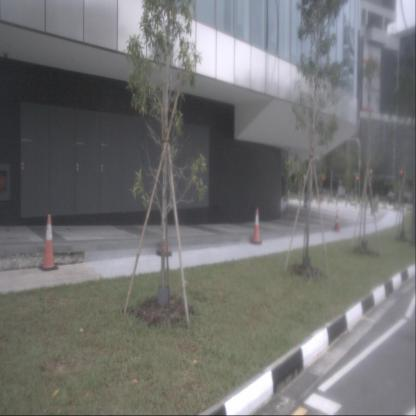human-pedestrian-adult: (304, 174, 310, 214)
movable_object-trafficcone: (38, 214, 59, 272), (156, 212, 173, 257), (250, 208, 262, 245), (333, 208, 340, 233)
